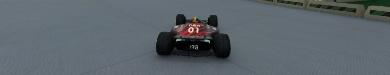Car: (155, 13, 231, 57)
obstacles-Borders: (252, 0, 389, 24)
